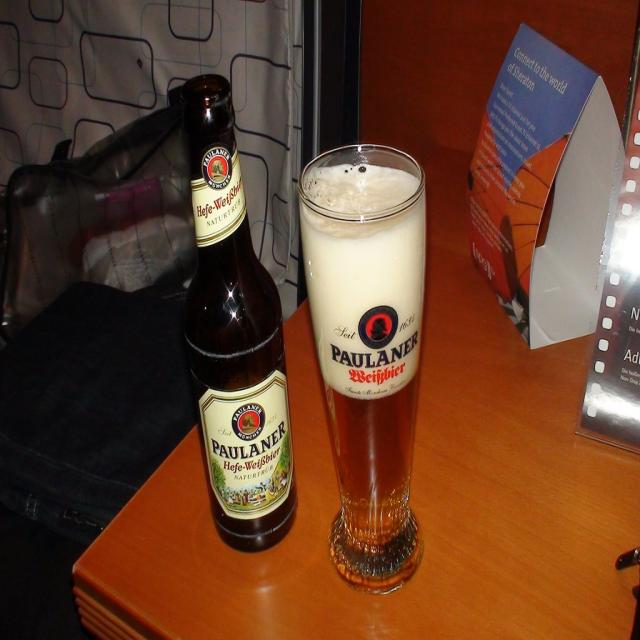paulaner: (360, 308, 399, 349), (202, 149, 233, 191), (232, 403, 265, 442)
